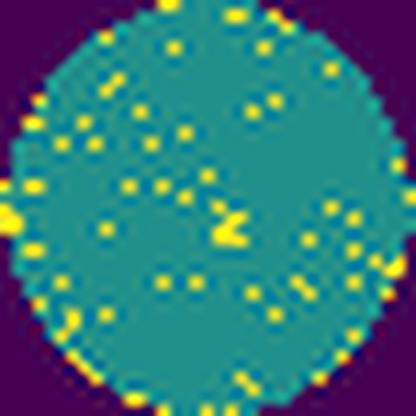Center: (204, 193, 253, 250)
